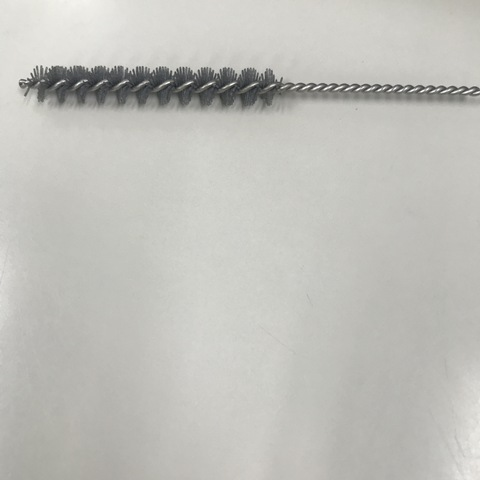Twist Brush-A: (19, 63, 480, 111)
